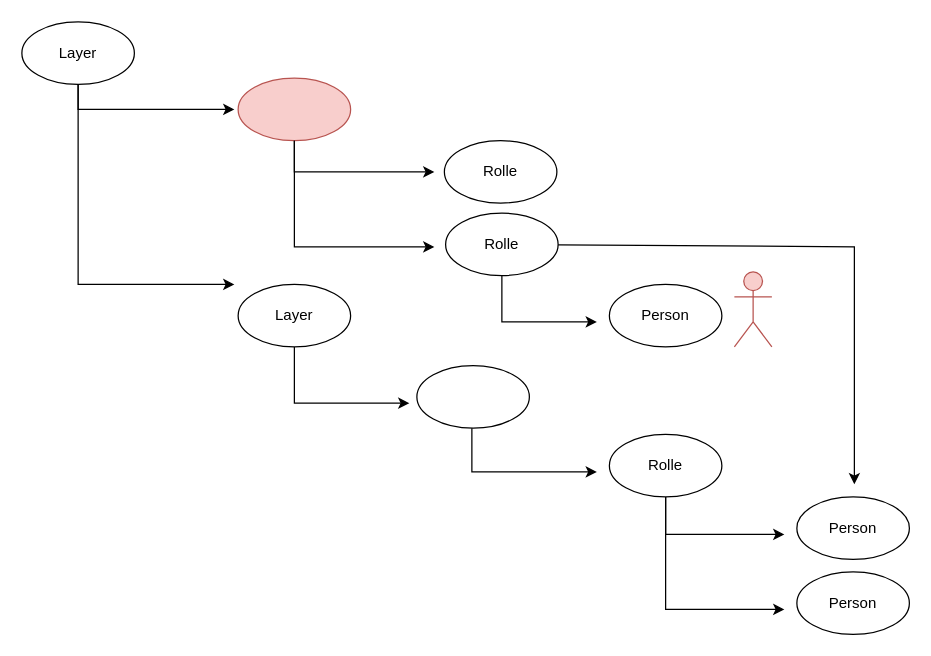
This 931x656 diagram has some shape labels left out. The shapes that lost their labels are listed below. From the top down, each one's box as (x1, y1, x2, y2) in pixels, then its label:
(237, 77, 351, 141): Heinz-Gruppe
(733, 271, 772, 347): Heinz
(416, 364, 529, 428): Group
